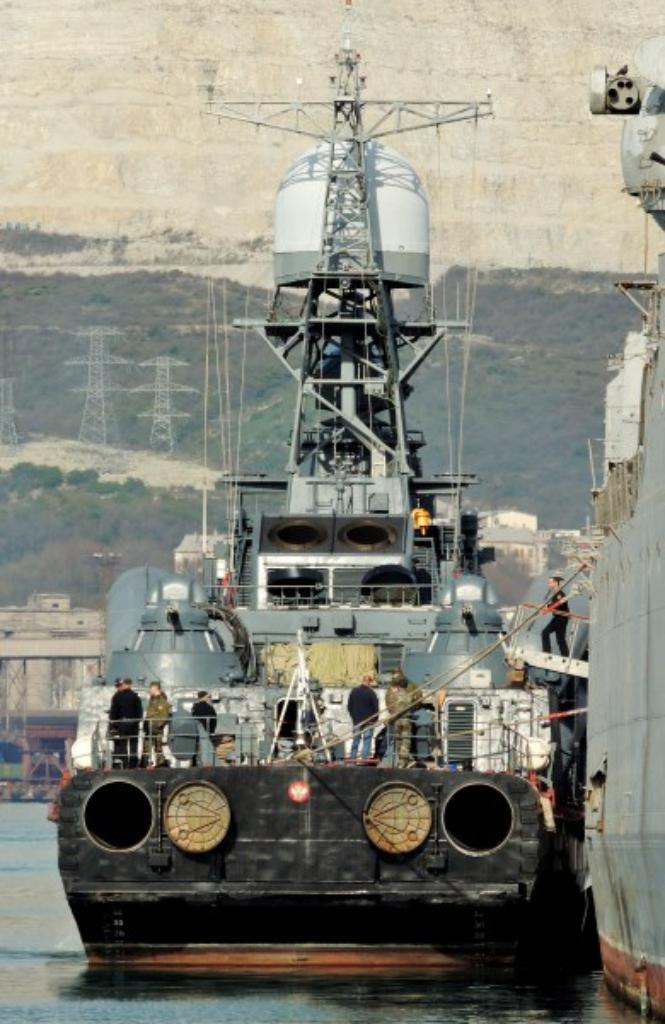Warship: (50, 32, 598, 974)
